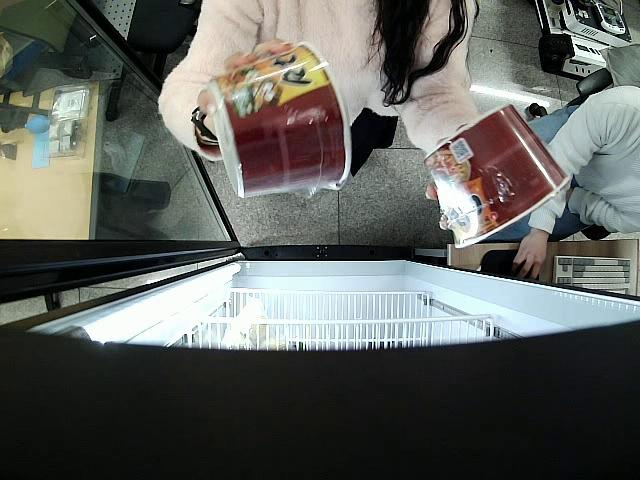00_hand: (196, 37, 293, 116), (515, 231, 549, 280)
05_nuguri_L: (209, 41, 355, 197), (422, 102, 574, 249)
